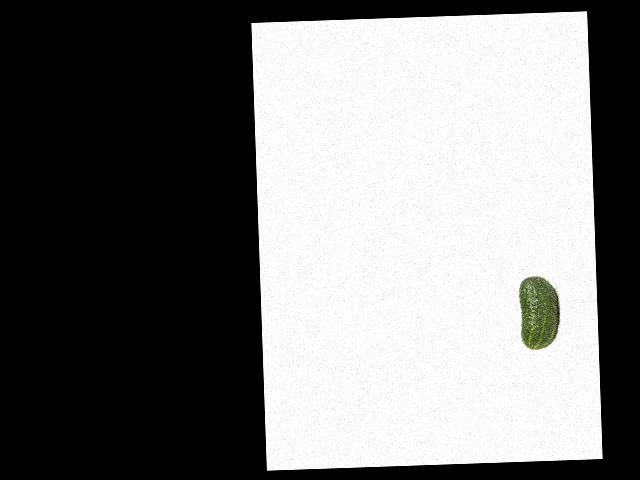cucumber: (519, 275, 560, 350)
